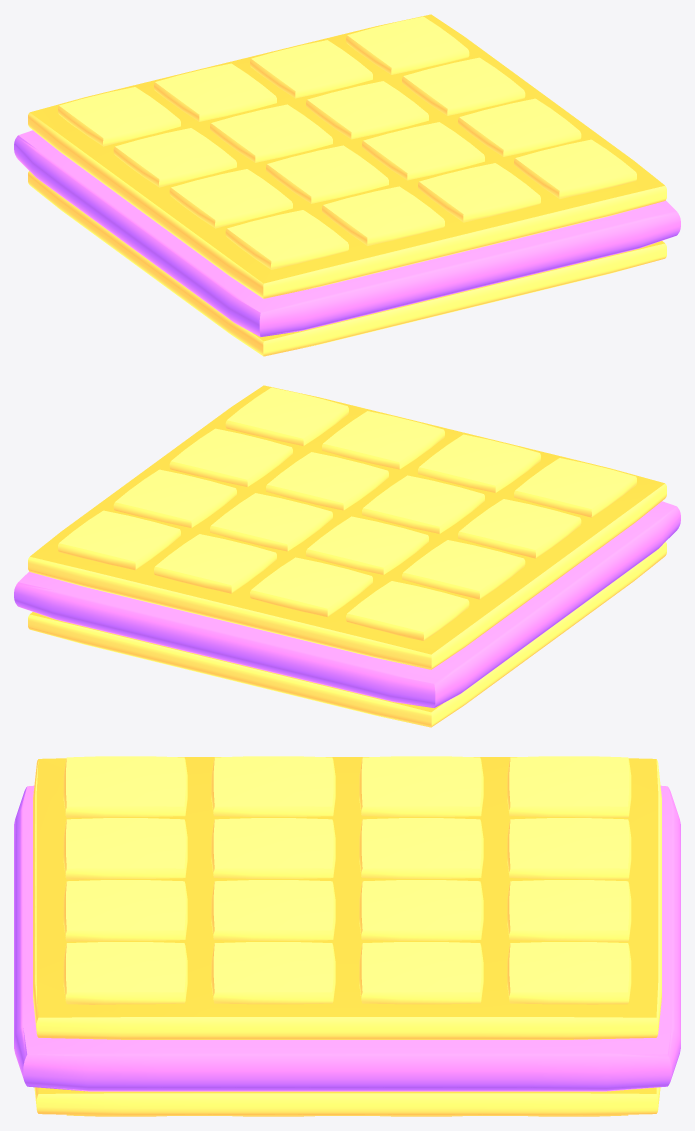
3 views of the same model, one above another, from view 1: azimuth 30°, elevation 25°; view 2: azimuth 150°, elevation 25°; view 3: azimuth 270°, elevation 25° (orthographic). The views are drawn at different scales.
Visible parts, largest first — view 1: WaferBig-whole; view 2: WaferBig-whole; view 3: WaferBig-whole.
Boxes of the visible parts, bbox=[...] form: WaferBig-whole: bbox=[14, 14, 680, 356]; WaferBig-whole: bbox=[14, 385, 680, 727]; WaferBig-whole: bbox=[14, 756, 680, 1116].
Bounding box in the file's own units: 1.19 × 0.2556 × 1.21.
